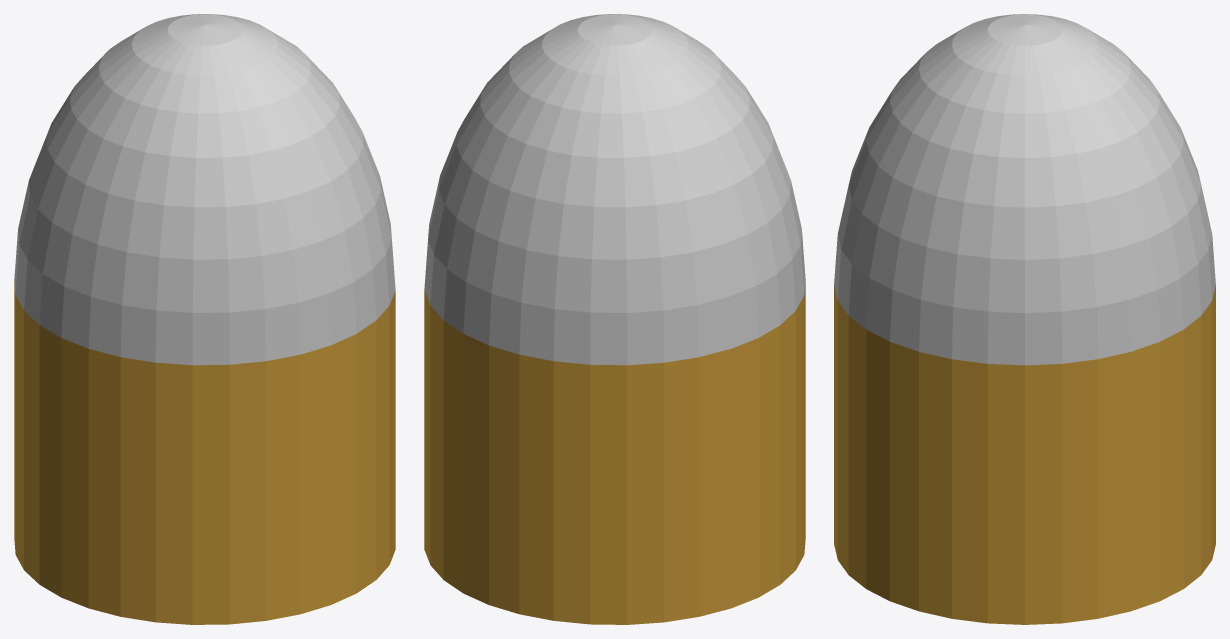
File: Bullet.fbx
3 views of the same model, side by side, from view 1: azimuth 30°, elevation 25°; view 2: azimuth 150°, elevation 25°; view 3: azimuth 270°, elevation 25° (orthographic).
Parts seen in each view (by area): view 1: Sphere, Cylinder; view 2: Sphere, Cylinder; view 3: Sphere, Cylinder.
Boxes of the visible parts, box(x1,y1,x2,y2) form: Sphere: box(14, 14, 395, 365); Cylinder: box(14, 281, 395, 624); Sphere: box(424, 14, 805, 365); Cylinder: box(424, 281, 805, 624); Sphere: box(834, 14, 1215, 365); Cylinder: box(834, 285, 1215, 624).
Bounding box in the file's own units: 2 × 3 × 2.
